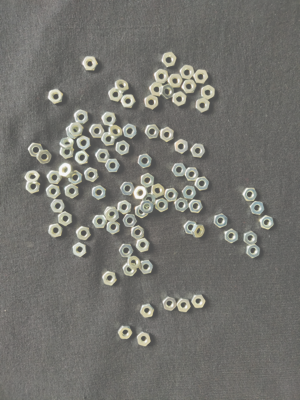nut: (83, 56, 99, 72), (162, 52, 177, 68), (48, 89, 63, 105), (193, 70, 209, 85), (196, 98, 211, 114), (36, 150, 52, 165), (84, 167, 99, 183), (92, 185, 107, 201), (102, 272, 118, 287), (191, 294, 207, 309), (180, 65, 195, 80), (154, 69, 169, 84), (191, 144, 206, 159), (145, 124, 160, 139), (102, 112, 117, 127), (74, 110, 89, 125), (69, 122, 84, 137), (68, 170, 83, 185), (48, 223, 63, 238), (243, 231, 258, 246), (140, 200, 155, 215), (105, 208, 120, 223), (76, 226, 91, 241), (136, 238, 151, 253), (139, 260, 154, 275), (121, 94, 137, 108), (95, 149, 111, 163), (138, 153, 152, 169), (47, 171, 63, 185), (25, 170, 41, 184), (46, 185, 62, 199), (120, 182, 136, 196), (182, 186, 198, 200), (137, 331, 151, 347), (168, 74, 183, 88), (202, 85, 216, 100), (182, 80, 197, 94), (173, 92, 187, 107), (160, 85, 174, 100), (145, 95, 159, 110), (115, 79, 129, 94), (175, 139, 189, 154), (123, 124, 137, 139), (90, 124, 105, 138), (108, 125, 123, 139), (75, 151, 90, 165), (28, 143, 43, 157), (105, 159, 120, 173), (185, 168, 200, 182), (195, 177, 210, 191), (59, 163, 73, 178), (65, 184, 79, 199), (59, 212, 73, 227), (141, 173, 155, 188), (250, 202, 265, 216), (214, 214, 228, 229), (225, 229, 239, 244), (189, 200, 204, 214), (175, 198, 190, 212), (164, 188, 179, 202), (151, 184, 165, 199), (155, 198, 169, 213), (123, 214, 138, 228), (93, 215, 108, 229), (73, 243, 87, 258), (131, 225, 145, 240), (119, 244, 134, 258), (177, 298, 191, 313), (163, 296, 177, 311), (141, 304, 155, 319), (161, 127, 174, 143), (109, 88, 123, 102), (102, 132, 116, 146), (77, 136, 91, 150), (116, 141, 130, 155), (246, 244, 260, 258), (192, 224, 206, 238), (134, 186, 148, 200), (135, 205, 149, 219), (118, 201, 132, 215), (123, 263, 137, 277), (60, 137, 75, 150), (172, 164, 187, 177), (51, 200, 66, 213), (243, 188, 258, 201), (260, 216, 275, 229), (143, 193, 156, 208), (128, 256, 141, 271), (118, 326, 133, 339), (66, 126, 80, 139), (184, 221, 197, 235), (107, 221, 120, 235), (26, 182, 41, 194), (150, 83, 163, 96), (60, 148, 75, 159), (104, 207, 117, 217)
